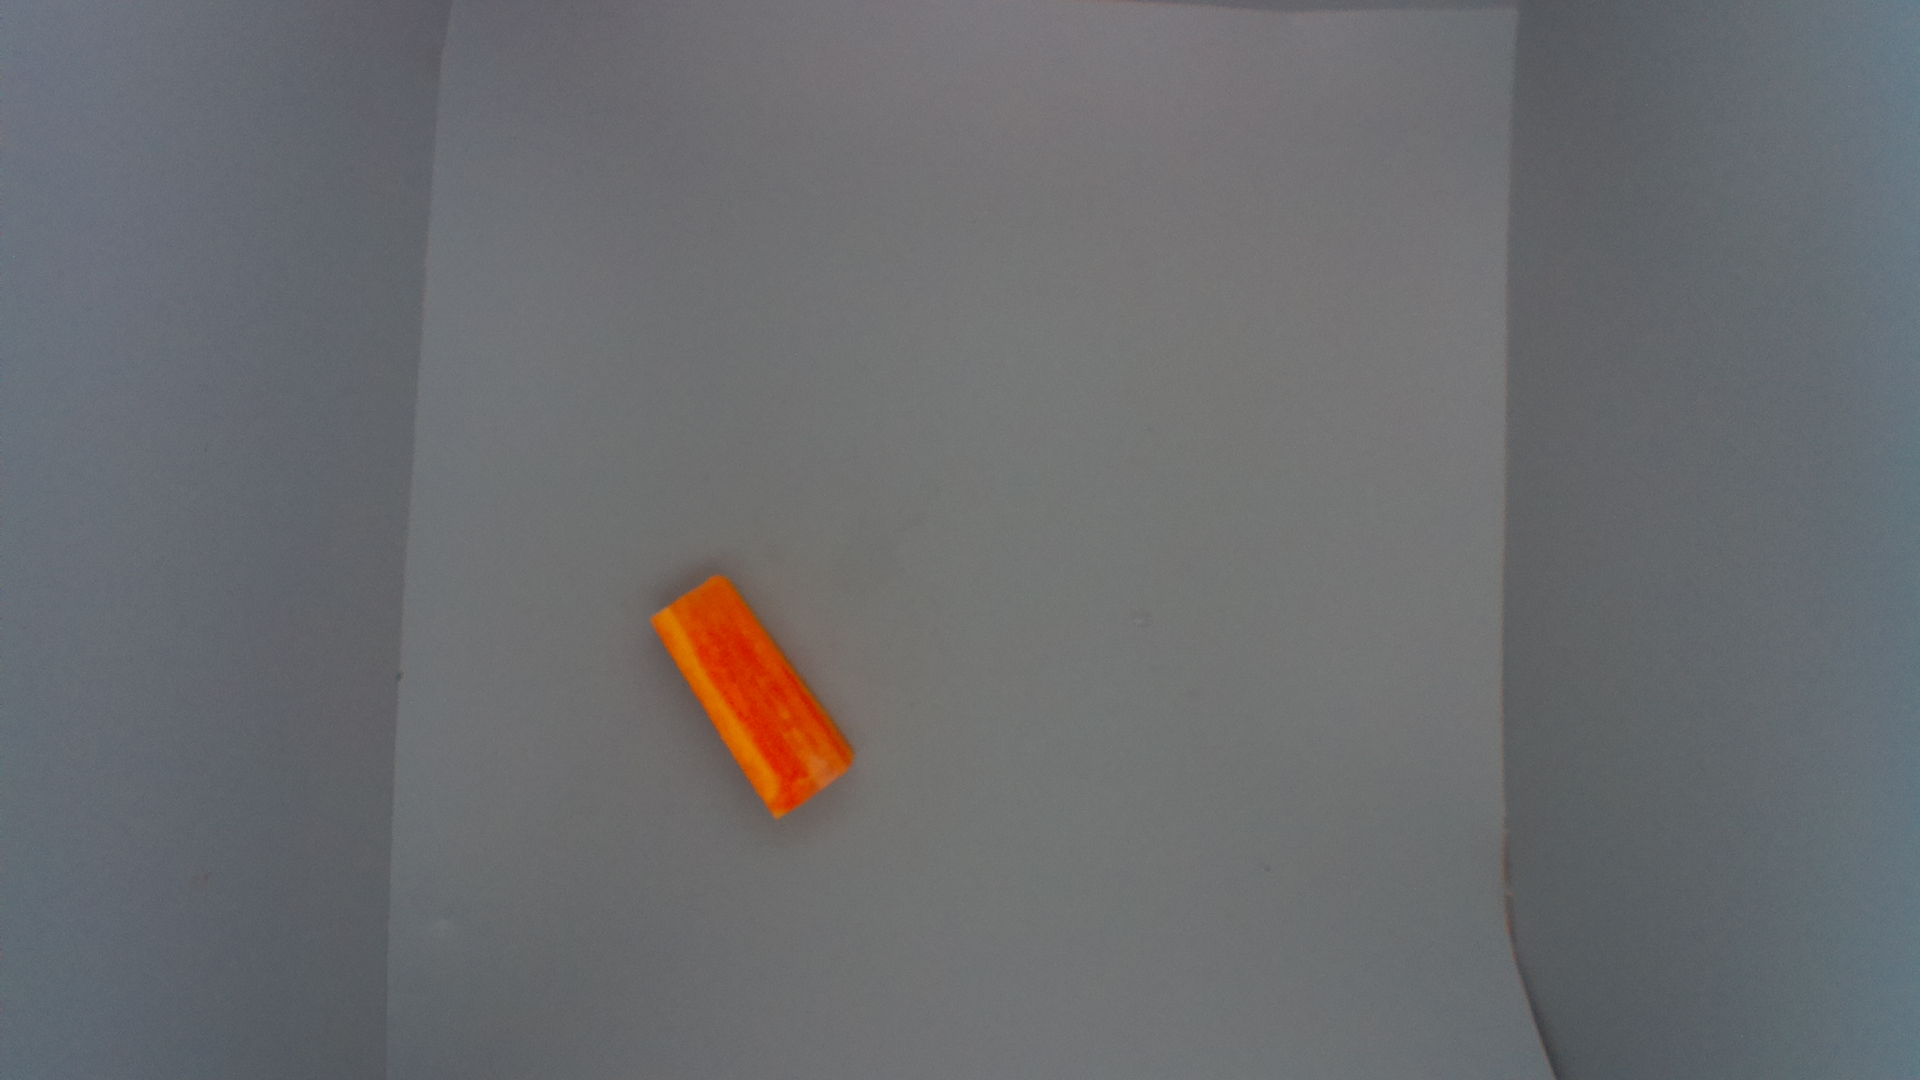carrot: (651, 572, 862, 823)
